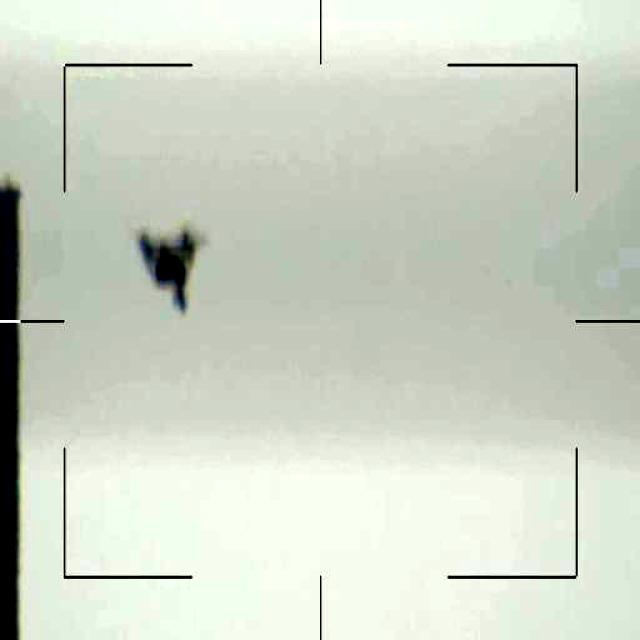bird: (128, 222, 194, 309)
